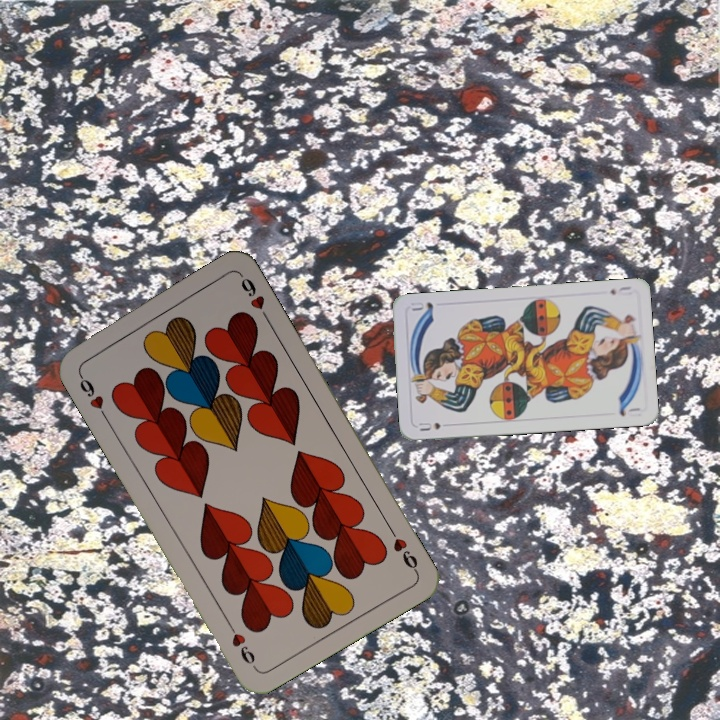H9: (384, 522, 421, 576), (74, 368, 110, 422)
SU: (606, 282, 634, 298), (415, 418, 443, 433)
